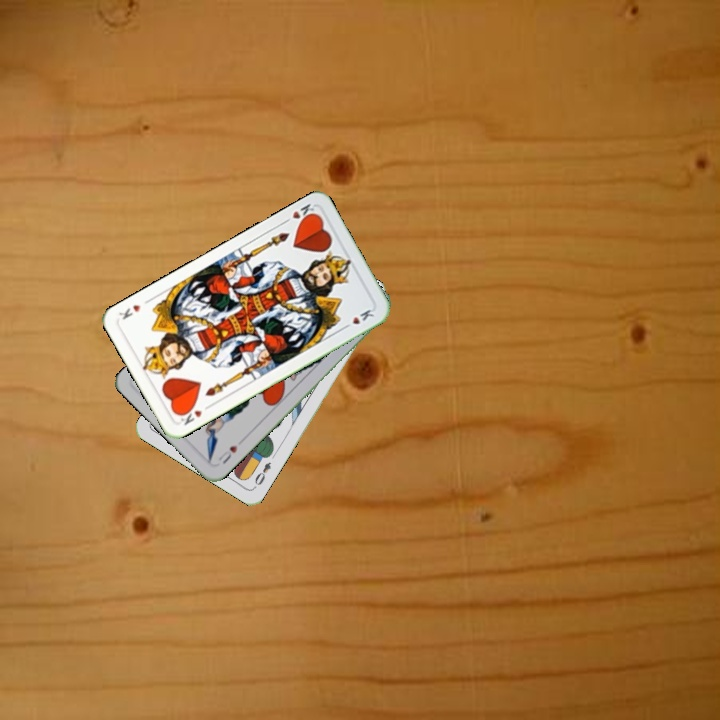EO: (250, 458, 274, 488)
HK: (174, 400, 213, 428), (279, 200, 318, 228)
HU: (214, 441, 240, 466)
